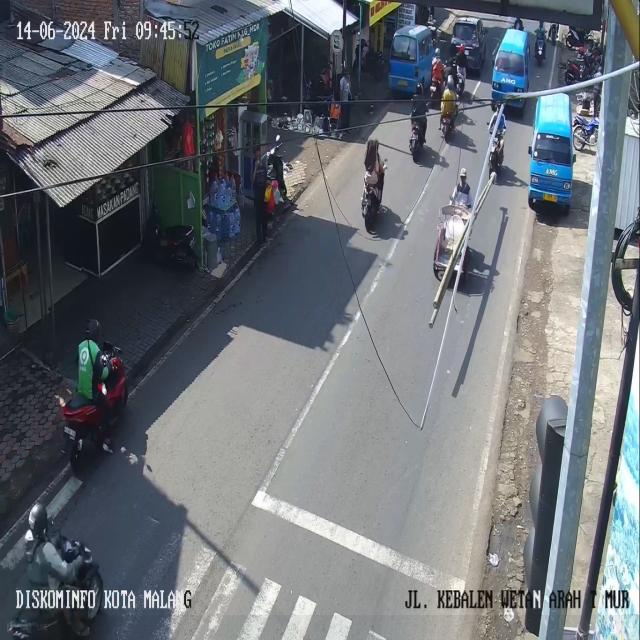Helmet: (28, 503, 47, 539), (86, 319, 100, 341), (416, 82, 424, 95), (447, 75, 454, 89), (459, 168, 466, 177), (458, 44, 464, 52), (434, 48, 439, 57), (539, 20, 543, 28)
Number Plate: (64, 425, 75, 439), (543, 193, 557, 202), (398, 80, 407, 86)
Rearview Mirror: (275, 134, 280, 142), (572, 153, 576, 162), (528, 146, 531, 154)
